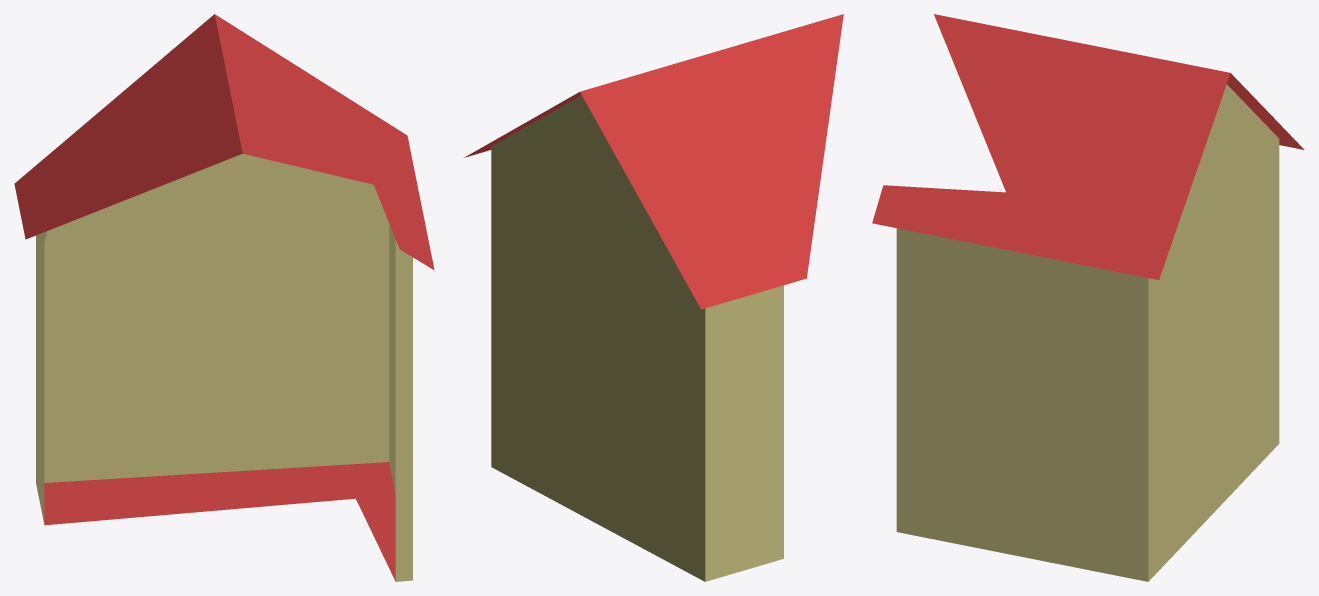
3 views of the same model, side by side, from view 1: azimuth 30°, elevation 25°; view 2: azimuth 150°, elevation 25°; view 3: azimuth 270°, elevation 25° (orthographic). The views are drawn at different scales.
Bounding box in the file's own units: 10.55 × 10.86 × 12.32.
